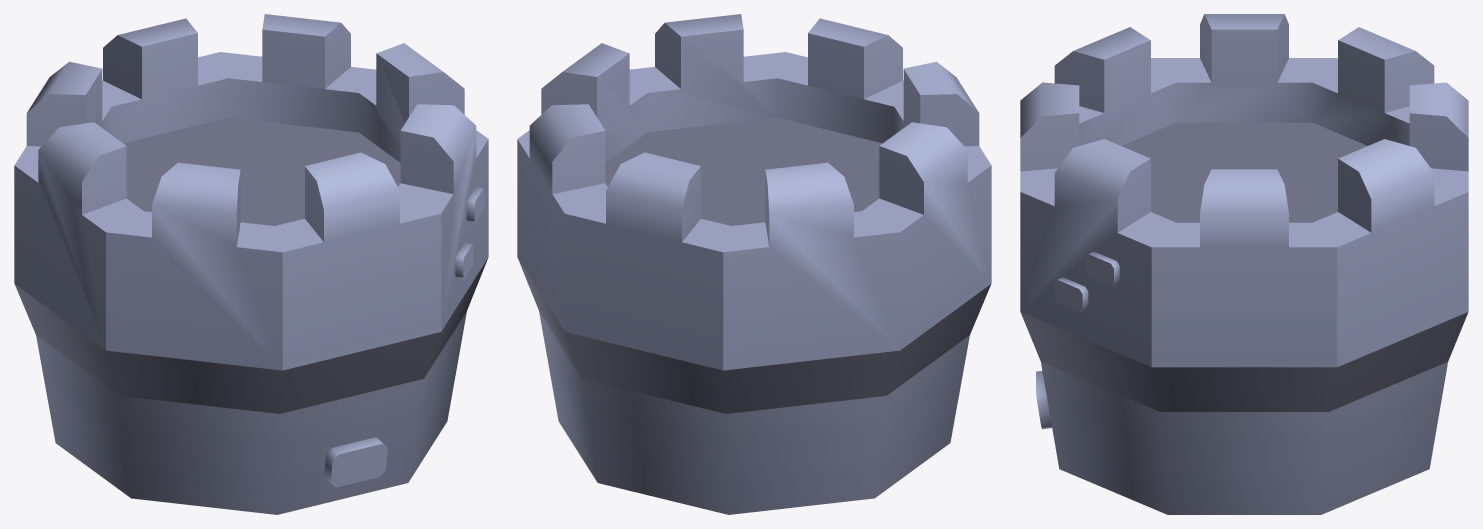
File: tower-top.glb
3 renders of one model, left to right at view 1: azimuth 30°, elevation 25°; view 2: azimuth 150°, elevation 25°; view 3: azimuth 270°, elevation 25°, orthographic.
Visible parts, largest first — view 1: tower-top; view 2: tower-top; view 3: tower-top.
Part boxes in pixels (x1,y1,x2,y2): tower-top: [14, 14, 488, 514]; tower-top: [517, 14, 991, 514]; tower-top: [1020, 14, 1468, 514].
Size of the model in its own units: 3.35 by 2.79 by 3.35.
Materials: 1 (1 with a texture image).
